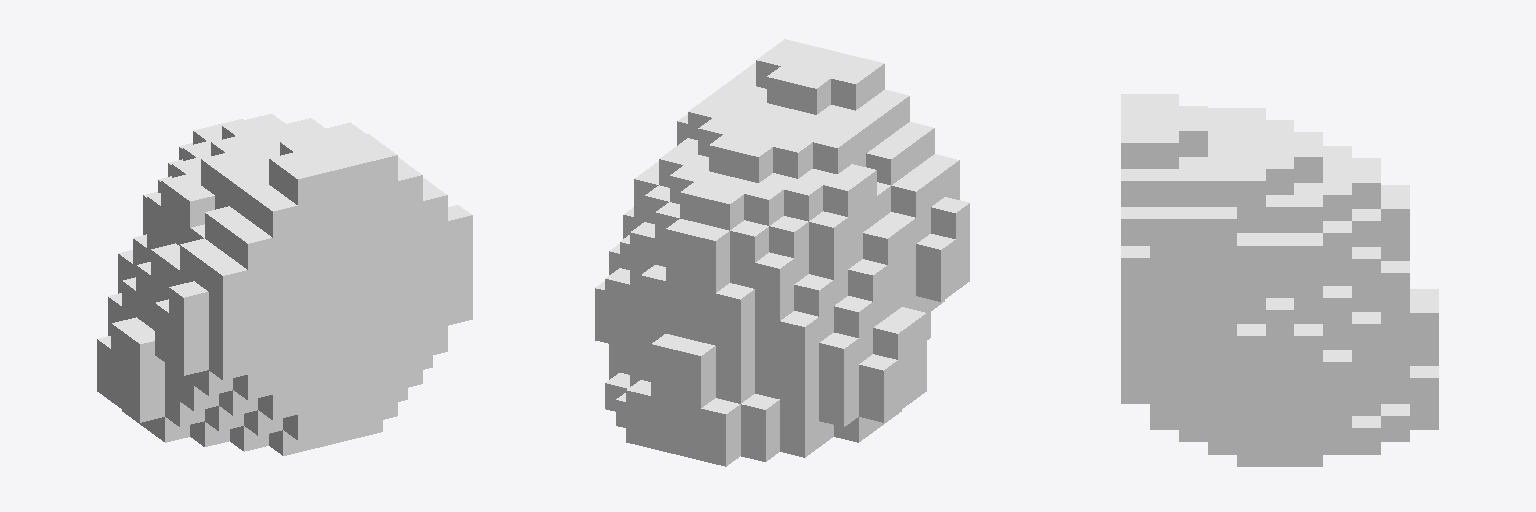
Rendered from bendVertUp.obj.
The picture shows the model from 3 angles: view 1: azimuth 30°, elevation 25°; view 2: azimuth 150°, elevation 25°; view 3: azimuth 270°, elevation 25°; orthographic projection.
Visible parts, largest first — view 1: bendVertUp; view 2: bendVertUp; view 3: bendVertUp.
Part boxes in pixels (left/top/right/bottom): bendVertUp: left=97, top=114, right=472, bottom=455; bendVertUp: left=595, top=39, right=969, bottom=466; bendVertUp: left=1121, top=94, right=1438, bottom=466.
Size of the model in its own units: 0.9167 by 0.9167 by 0.9167.